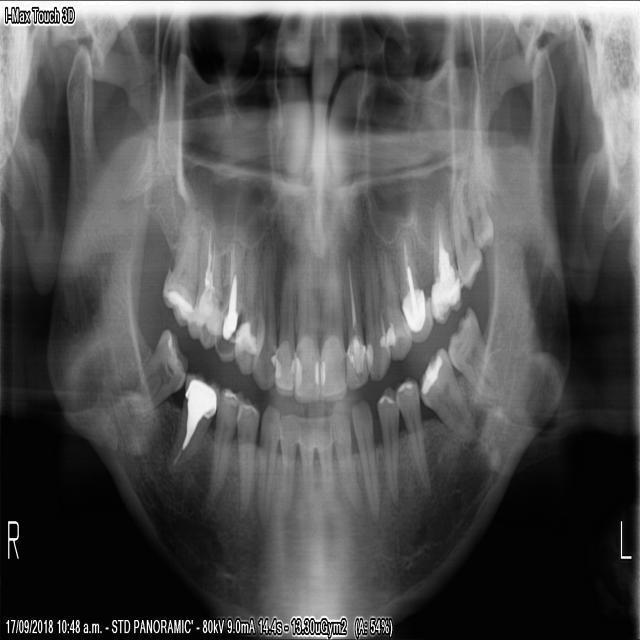LCD: (375, 382, 398, 515)
LCU: (356, 256, 389, 381)
LID: (348, 396, 383, 527), (330, 399, 363, 511), (314, 409, 333, 504)
LIU: (317, 267, 349, 400), (340, 266, 369, 390)
LMD: (418, 342, 476, 434), (445, 303, 488, 399)
LMU: (429, 199, 462, 323), (447, 193, 485, 290), (465, 176, 495, 252)
LPMD: (394, 371, 432, 500)
LPMU: (374, 246, 413, 360), (393, 233, 432, 342)
RCD: (253, 400, 280, 534)
RCU: (249, 246, 277, 390)
RID: (275, 406, 296, 500), (297, 409, 316, 502)
RIU: (268, 256, 296, 397), (293, 258, 318, 403)
RMD: (170, 370, 219, 475), (139, 326, 191, 406)
RMU: (159, 218, 203, 333)
RPMD: (202, 386, 243, 514), (235, 395, 259, 520)
RPMU: (183, 225, 230, 352), (212, 244, 248, 363), (231, 246, 263, 376)
